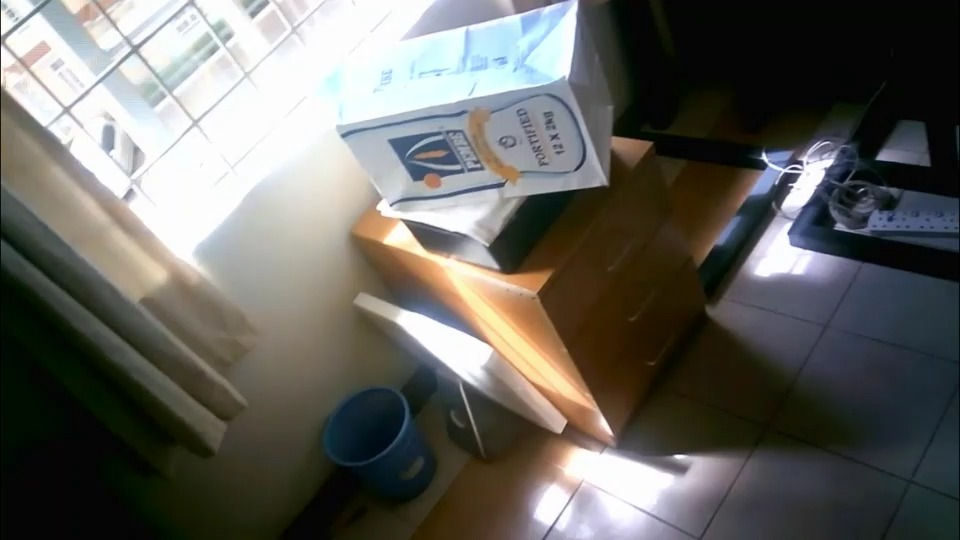wheat_flour_blue_label: (337, 2, 611, 207)
